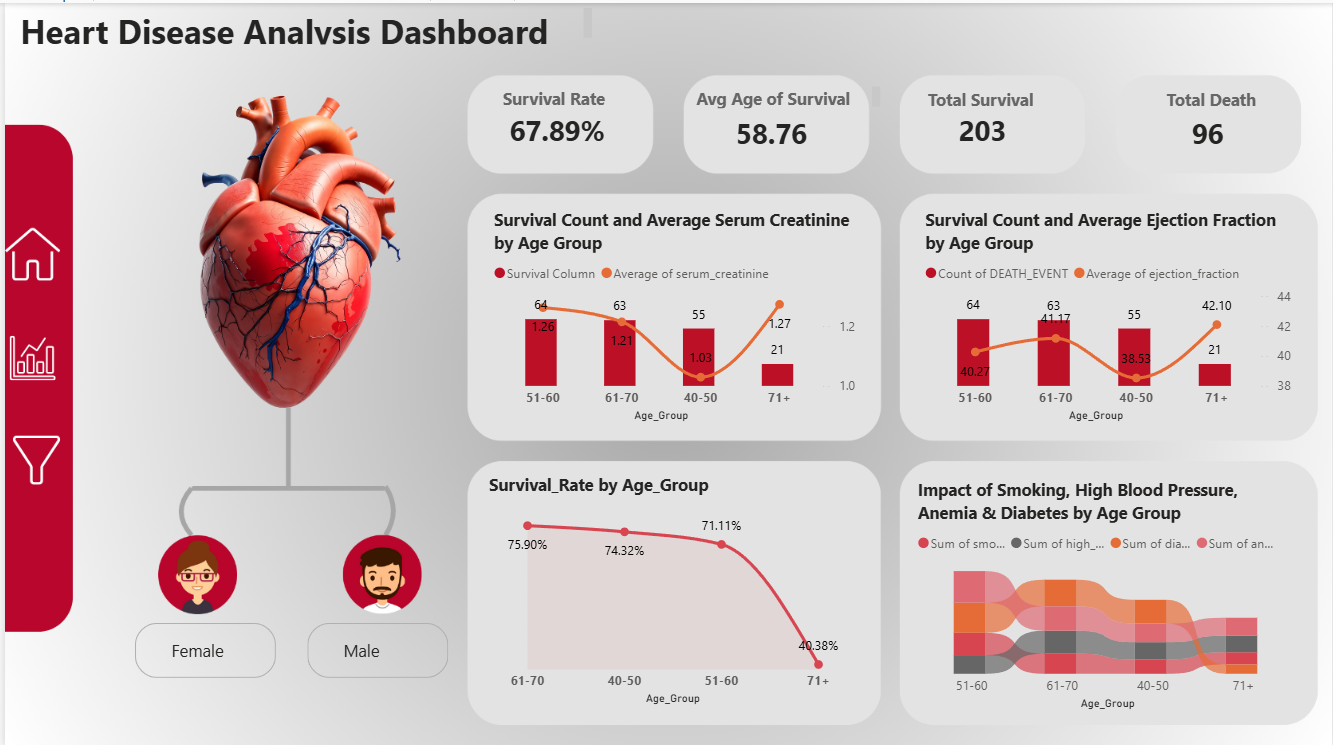

This screenshot's page, from the dashboard's own definition file:
{"tool":"powerbi","page":{"name":"Page 1","canvas":[1280,720],"ordinal":0},"visuals":[{"type":"textbox","box":[10.1,0,561.6,44.6],"z":0},{"type":"card","fields":{"Values":["heart_Disease_clinical_records_.Survival_Rate"]},"box":[468,93.6,129.6,59],"z":1000},{"type":"card","fields":{"Values":["heart_Disease_clinical_records_.Average_Age_Survival"]},"box":[673.9,90.7,131,72],"z":2000},{"type":"card","fields":{"Values":["heart_Disease_clinical_records_.Total_Surviour"]},"box":[889.9,97.9,106.6,51.8],"z":3000},{"type":"card","fields":{"Values":["heart_Disease_clinical_records_.Total_Death"]},"box":[1118.9,103.7,85,46.1],"z":4000},{"type":"textbox","box":[475.2,76.3,121,34.6],"z":5000},{"type":"textbox","box":[662.4,76.3,187.2,30.2],"z":6000},{"type":"textbox","box":[885.6,77.8,128.2,36],"z":7000},{"type":"textbox","box":[1116,77.8,128.2,36],"z":8000},{"type":"lineClusteredColumnComboChart","title":"Survival  Count and Average Serum Creatinine by Age Group","fields":{"Category":["heart_Disease_clinical_records_.Age_Group"],"Y":["CountNonNull(heart_Disease_clinical_records_.DEATH_EVENT)"],"Y2":["Avg(heart_Disease_clinical_records_.serum_creatinine)"]},"box":[466.6,197.3,361.4,211.7],"z":9000},{"type":"lineClusteredColumnComboChart","title":"Survival Count and Average Ejection Fraction by Age Group","fields":{"Category":["heart_Disease_clinical_records_.Age_Group"],"Y":["CountNonNull(heart_Disease_clinical_records_.DEATH_EVENT)"],"Y2":["Avg(heart_Disease_clinical_records_.ejection_fraction)"]},"box":[882.7,197.3,364.3,211.7],"z":10000},{"type":"lineChart","fields":{"Category":["heart_Disease_clinical_records_.Age_Group"],"Y":["heart_Disease_clinical_records_.Survival_Rate"]},"box":[462.2,453.6,365.8,229],"z":11000},{"type":"ribbonChart","title":"Impact of Smoking, High Blood Pressure, Anemia & Diabetes by Age Group","fields":{"Category":["heart_Disease_clinical_records_.Age_Group"],"Y":["Sum(heart_Disease_clinical_records_.smoking)","Sum(heart_Disease_clinical_records_.high_blood_pressure)","Sum(heart_Disease_clinical_records_.diabetes)","Sum(heart_Disease_clinical_records_.anaemia)"]},"box":[875.5,457.9,377.3,229],"z":12000},{"type":"advancedSlicerVisual","fields":{"Values":["heart_Disease_clinical_records_.Gender"]},"box":[121,593.3,312.5,63.4],"z":13000}]}

Visuals, with their boxes in screenshot pixels (x1, y1, x2, y2), scaled from the page's 1280x720 canvas onto the 1333x745 screenshot:
textbox: x1=11, y1=0, x2=595, y2=46
card - heart_Disease_clinical_records_.Survival_Rate: x1=487, y1=97, x2=622, y2=158
card - heart_Disease_clinical_records_.Average_Age_Survival: x1=702, y1=94, x2=838, y2=168
card - heart_Disease_clinical_records_.Total_Surviour: x1=927, y1=101, x2=1038, y2=155
card - heart_Disease_clinical_records_.Total_Death: x1=1165, y1=107, x2=1254, y2=155
textbox: x1=495, y1=79, x2=621, y2=115
textbox: x1=690, y1=79, x2=885, y2=110
textbox: x1=922, y1=81, x2=1056, y2=118
textbox: x1=1162, y1=81, x2=1296, y2=118
"Survival  Count and Average Serum Creatinine by Age Group" lineClusteredColumnComboChart: x1=486, y1=204, x2=862, y2=423
"Survival Count and Average Ejection Fraction by Age Group" lineClusteredColumnComboChart: x1=919, y1=204, x2=1299, y2=423
lineChart - heart_Disease_clinical_records_.Age_Group x heart_Disease_clinical_records_.Survival_Rate: x1=481, y1=469, x2=862, y2=706
"Impact of Smoking, High Blood Pressure, Anemia & Diabetes by Age Group" ribbonChart: x1=912, y1=474, x2=1305, y2=711
advancedSlicerVisual - heart_Disease_clinical_records_.Gender: x1=126, y1=614, x2=451, y2=680
